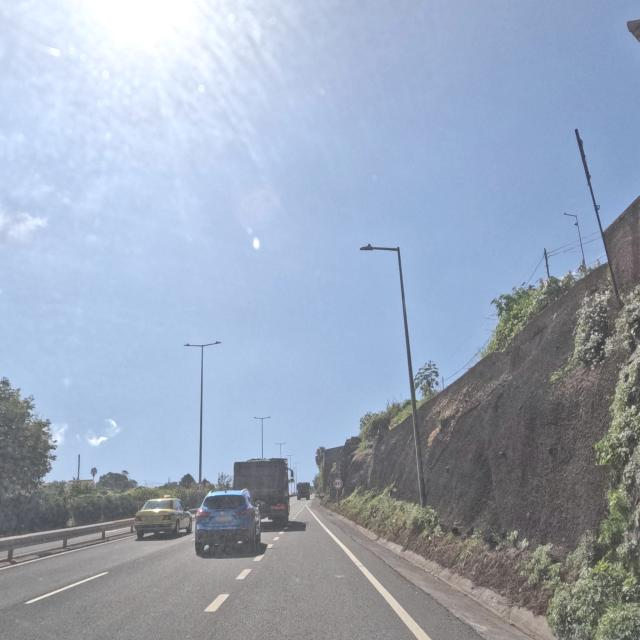car: (194, 488, 262, 556), (133, 497, 194, 539)
